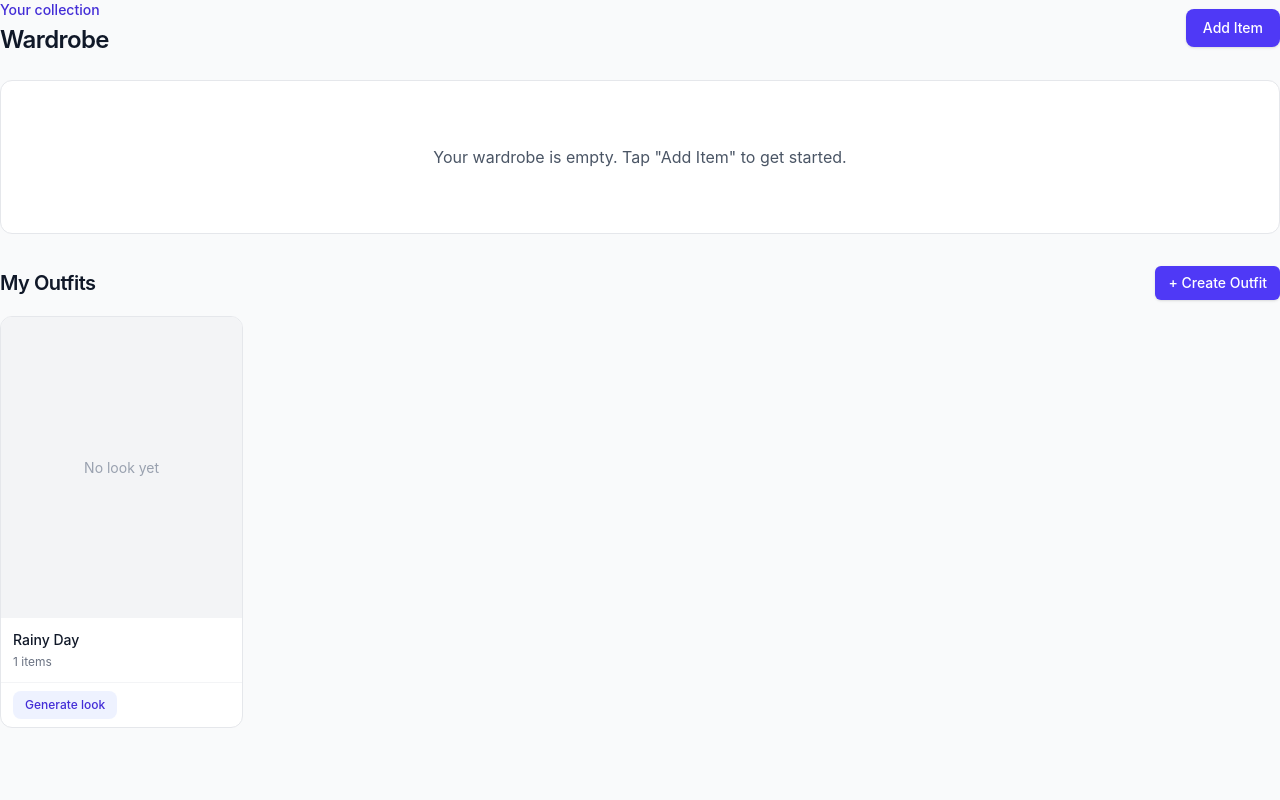
Test case: WardrobePage saved outfit look cards › surfaces the exhausted-credits response and keeps the dialog open
Click the button with aria-label "Generate look for Rainy Day" at (65, 706), box [13,692,117,720]
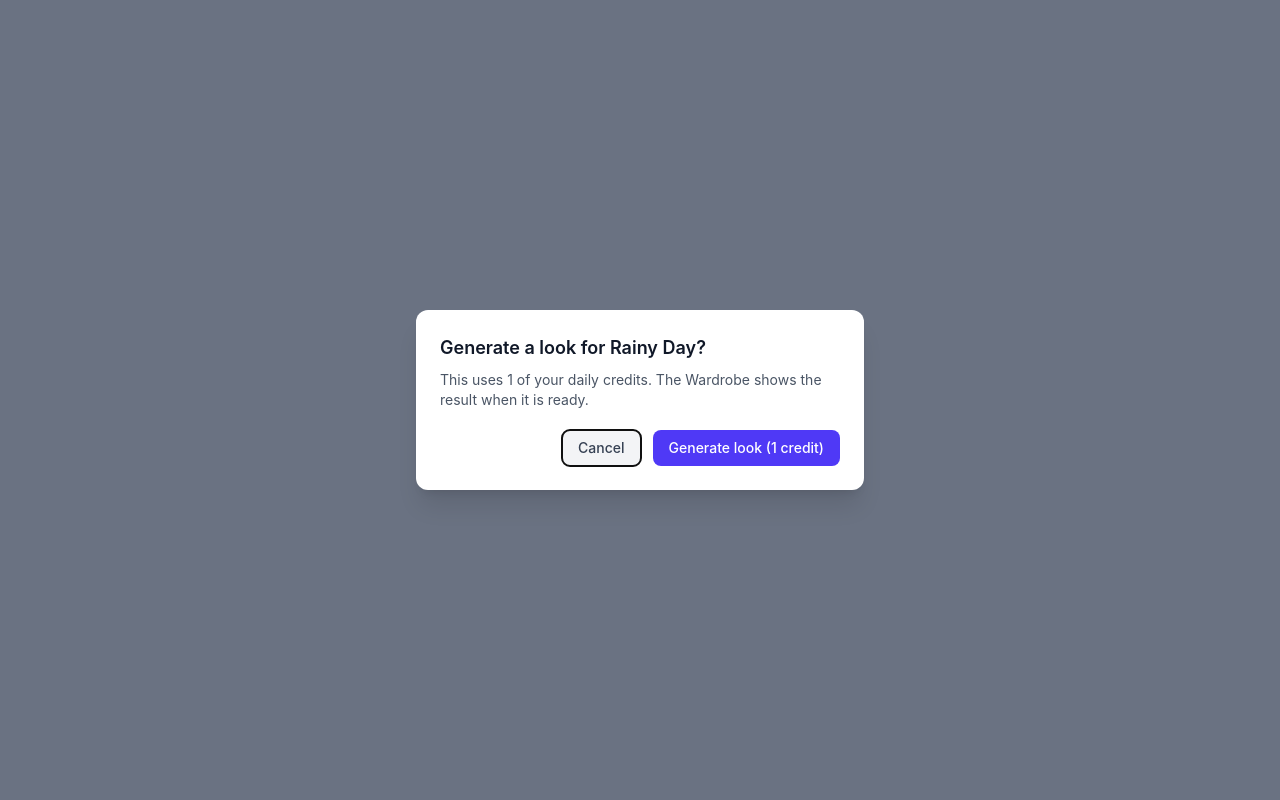
Click the button "Generate look (1 credit)" at (746, 448), box [652,430,840,466]
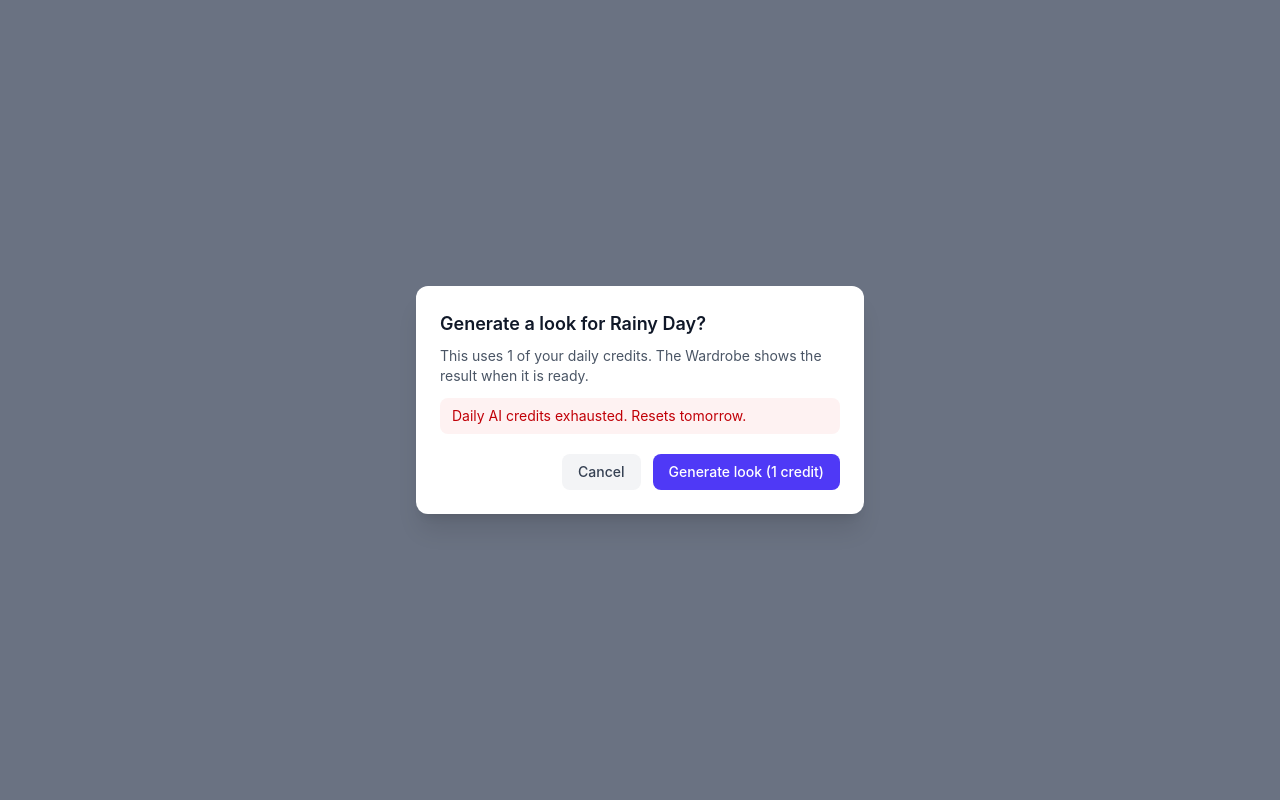
Expected: the dialog is shown, [416,286,864,514]
Expected: the message reads "Daily AI credits exhausted. Resets tomorrow.", [452,407,746,424]
